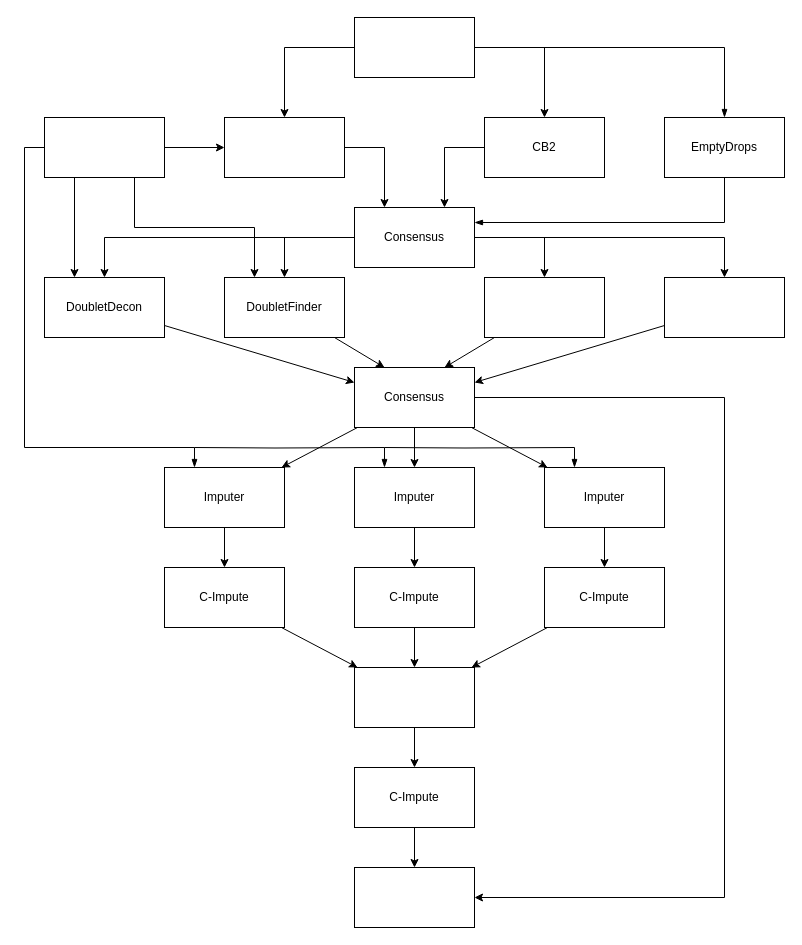
Image size: 802x945. Some labels were removed from this diagram. The shapes that lost their labels are listed below. From the top down, each one's box as (x1, y1, x2, y2) in pixels, then its label:
(354, 16, 474, 78): CellRanger
(44, 116, 164, 178): Molecular Cross Validation
(224, 116, 344, 178): CellBender
(484, 276, 604, 338): DoubletDetection
(664, 276, 784, 338): Scrublet
(354, 666, 474, 728): Trimmed Mean Count Matrix
(354, 866, 474, 928): ZINB Masking
